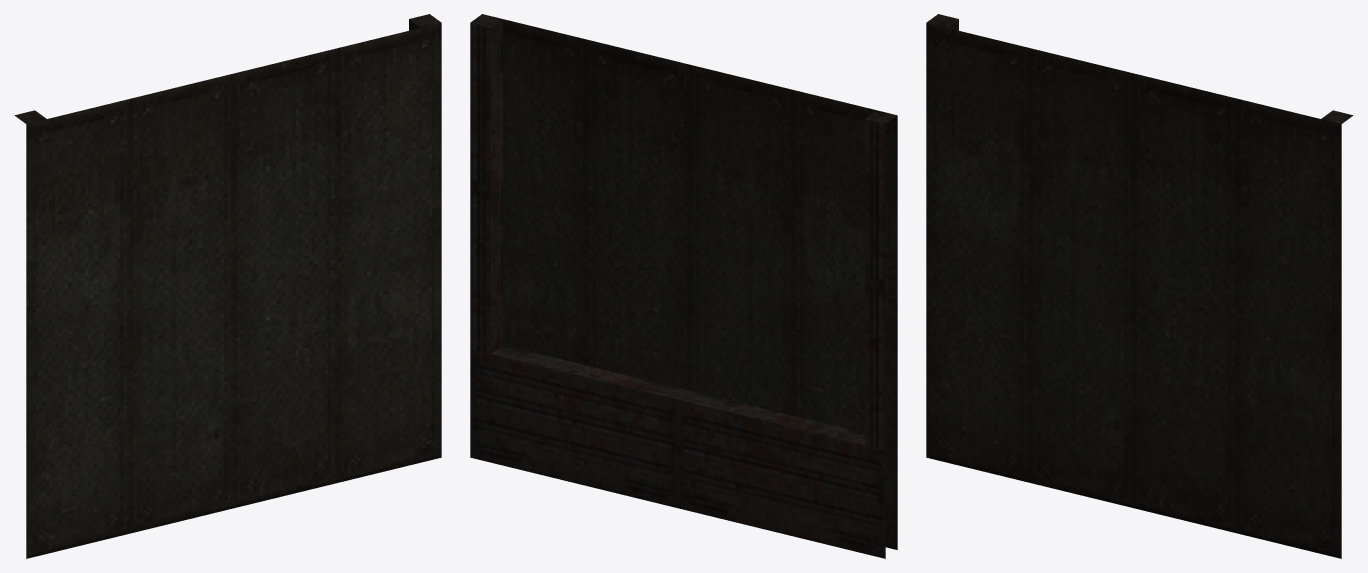
The model's file is wall_2.glb.
The picture shows the model from 3 angles, left to right: view 1: azimuth 30°, elevation 25°; view 2: azimuth 150°, elevation 25°; view 3: azimuth 330°, elevation 25°; orthographic projection.
Parts seen in each view (by area): view 1: wall_2; view 2: wall_2; view 3: wall_2.
Boxes of the visible parts, x1,y1,x2,y2 form: wall_2: [14, 14, 441, 558]; wall_2: [470, 14, 897, 558]; wall_2: [926, 14, 1353, 558].
Size of the model in its own units: 2 by 2 by 0.1.
2 materials, 2 textured.
